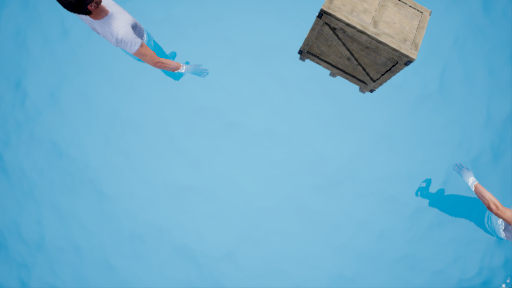person: (55, 1, 208, 81)
